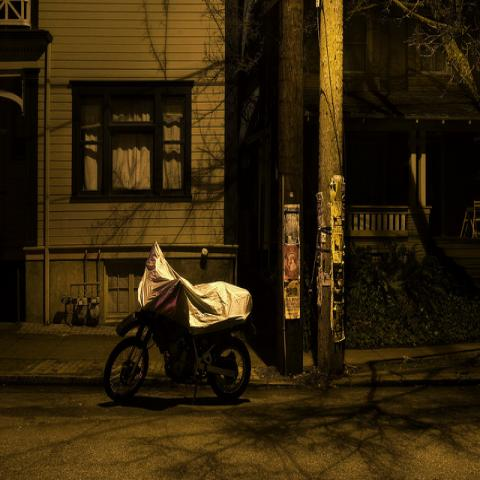motorcycle: (102, 239, 253, 400)
